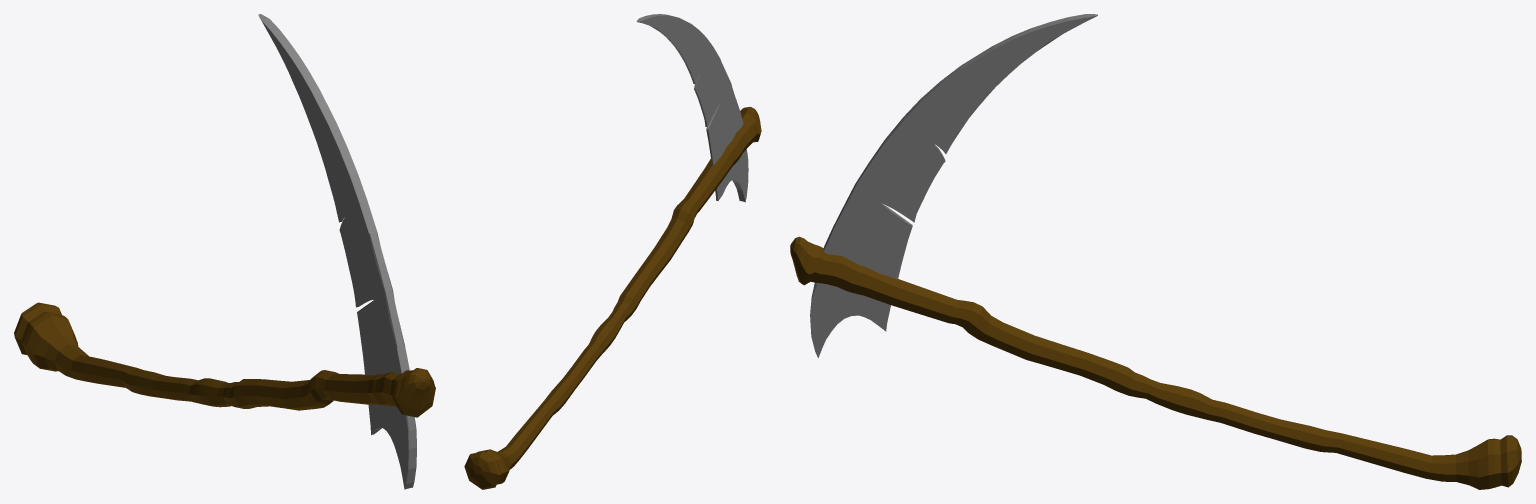
File: Scythe.glb
The picture shows the model from 3 angles, left to right: view 1: azimuth 30°, elevation 25°; view 2: azimuth 150°, elevation 25°; view 3: azimuth 270°, elevation 25°; orthographic projection. The views are drawn at different scales.
Parts seen in each view (by area): view 1: Cylinder, Plane; view 2: Cylinder, Plane; view 3: Cylinder, Plane.
Boxes of the visible parts, x1,y1,x2,y2 form: Cylinder: [14, 302, 435, 417]; Plane: [258, 14, 416, 489]; Cylinder: [464, 106, 761, 489]; Plane: [636, 14, 748, 202]; Cylinder: [790, 236, 1521, 489]; Plane: [810, 14, 1097, 358].
Bounding box in the file's own units: 0.3714 × 3.49 × 4.89.
